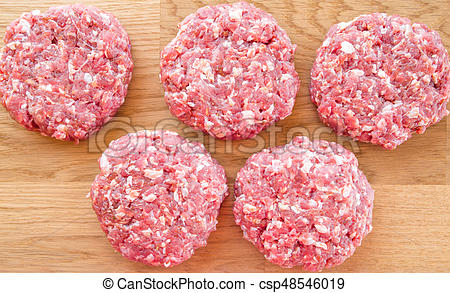ground_beef: (1, 8, 137, 143), (232, 144, 368, 275), (313, 10, 440, 141), (95, 130, 217, 263), (166, 11, 297, 129)
